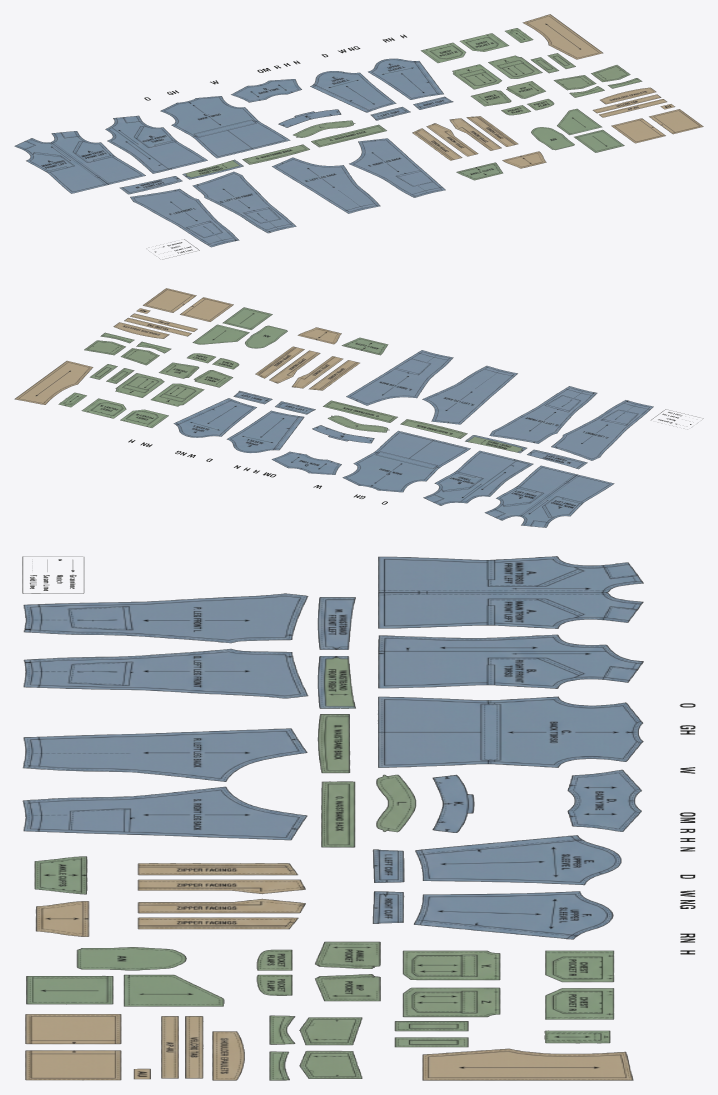
The model's file is c130_pattern_components.obj.
3 renders of one model, top to bottom at view 1: azimuth 30°, elevation 25°; view 2: azimuth 150°, elevation 25°; view 3: azimuth 270°, elevation 25°, orthographic. The views are drawn at different scales.
Parts seen in each view (by area): view 1: Pattern_019, Pattern_017, Pattern_018, Pattern_045, Pattern_044, Pattern_046, Pattern_043, Pattern_022, Pattern_025, Pattern_021, Pattern_020, Pattern_061 (+25 smaller); view 2: Pattern_019, Pattern_017, Pattern_018, Pattern_044, Pattern_043, Pattern_046, Pattern_045, Pattern_022, Pattern_025, Pattern_021, Pattern_020, Pattern_061 (+25 smaller); view 3: Pattern_019, Pattern_017, Pattern_018, Pattern_046, Pattern_045, Pattern_043, Pattern_044, Pattern_022, Pattern_025, Pattern_021, Pattern_020, Pattern_028 (+32 smaller).
Part boxes in pixels (bbox=[...]): Pattern_019: bbox=[160, 96, 290, 158]; Pattern_017: bbox=[14, 131, 145, 193]; Pattern_018: bbox=[105, 115, 207, 173]; Pattern_045: bbox=[272, 157, 380, 213]; Pattern_044: bbox=[130, 188, 239, 247]; Pattern_046: bbox=[349, 138, 445, 197]; Pattern_043: bbox=[192, 171, 296, 233]; Pattern_022: bbox=[310, 71, 396, 112]; Pattern_025: bbox=[368, 58, 443, 99]; Pattern_021: bbox=[522, 14, 603, 59]; Pattern_020: bbox=[231, 79, 301, 102]; Pattern_061: bbox=[611, 118, 665, 143]; Pattern_019: bbox=[342, 430, 470, 492]; Pattern_017: bbox=[484, 465, 614, 527]; Pattern_018: bbox=[423, 450, 533, 505]; Pattern_044: bbox=[551, 400, 653, 460]; Pattern_043: bbox=[489, 386, 597, 443]; Pattern_046: bbox=[346, 350, 453, 405]; Pattern_045: bbox=[422, 365, 517, 424]; Pattern_022: bbox=[226, 410, 304, 453]; Pattern_025: bbox=[173, 398, 256, 437]; Pattern_021: bbox=[14, 360, 93, 404]; Pattern_020: bbox=[271, 451, 341, 474]; Pattern_061: bbox=[180, 297, 233, 321]; Pattern_019: bbox=[377, 696, 643, 767]; Pattern_017: bbox=[378, 556, 643, 628]; Pattern_018: bbox=[378, 634, 643, 688]; Pattern_046: bbox=[22, 786, 307, 840]; Pattern_045: bbox=[22, 728, 307, 781]; Pattern_043: bbox=[23, 648, 308, 698]; Pattern_044: bbox=[23, 593, 308, 643]; Pattern_022: bbox=[415, 835, 621, 885]; Pattern_025: bbox=[413, 891, 613, 939]; Pattern_021: bbox=[422, 1048, 633, 1080]; Pattern_020: bbox=[567, 769, 641, 831]; Pattern_028: bbox=[402, 987, 500, 1017].
Bounding box in the file's own units: 2.73 × 0 × 1.48.
1 material, 1 textured.
